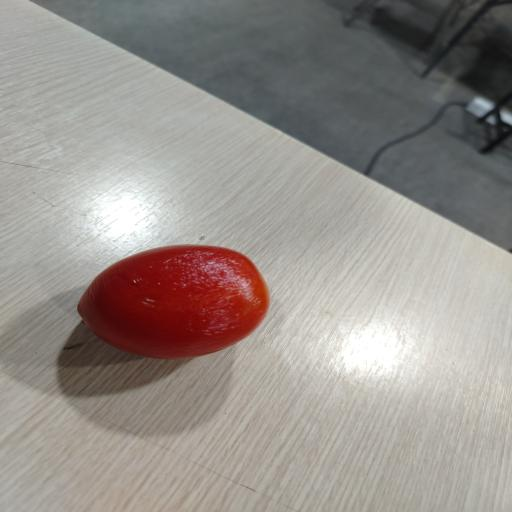spoiled: (78, 245, 269, 359)
